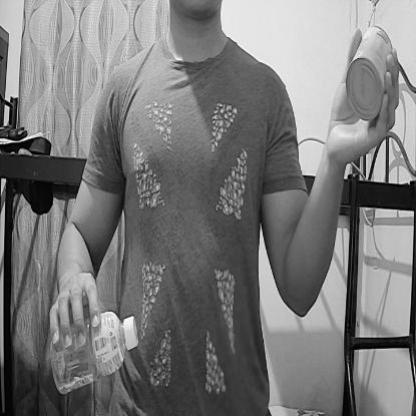Plastic Bottle: (42, 303, 142, 401)
